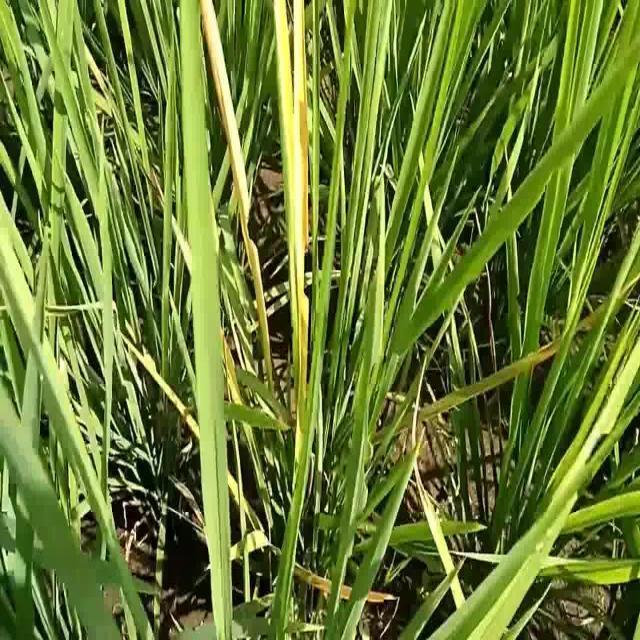Rice Tungro: (201, 1, 275, 322), (270, 2, 310, 318), (291, 3, 312, 348)
